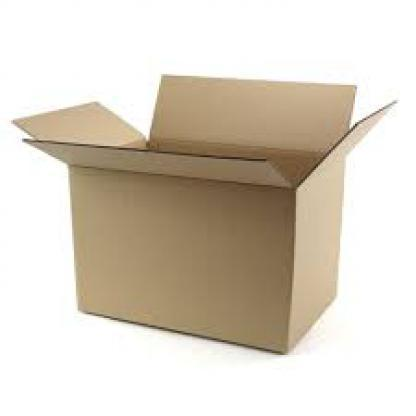box: (9, 74, 396, 353)
